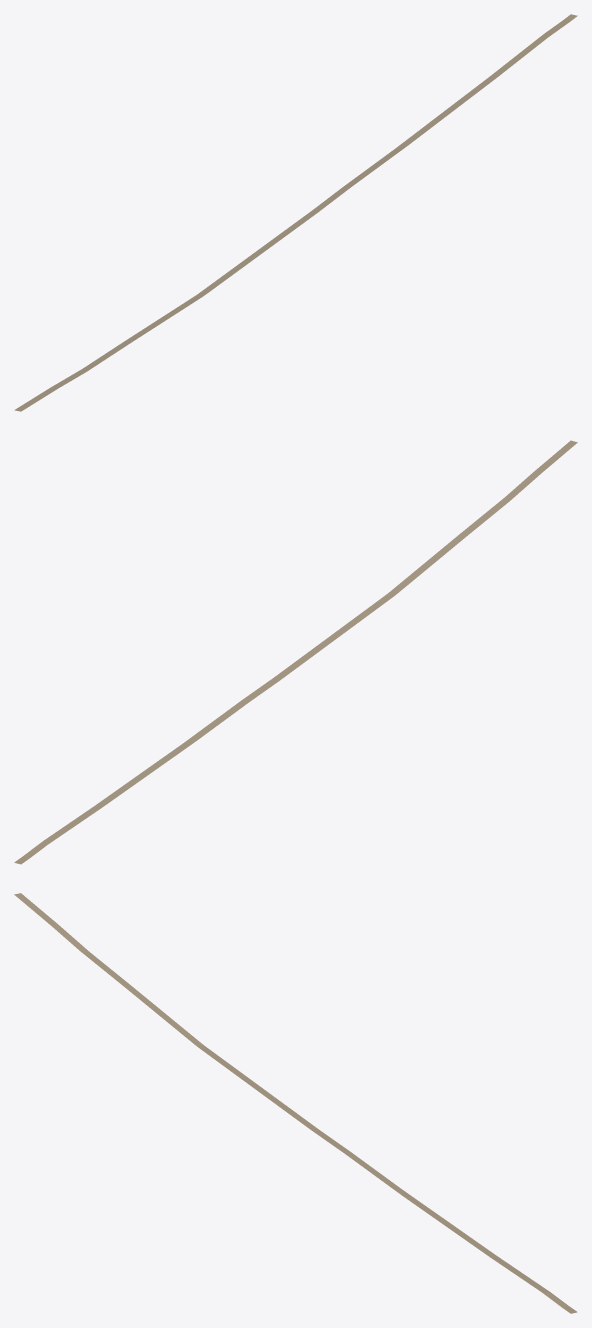
Rendered from farm_-8_-13_track.glb.
The picture shows the model from 3 angles, top to bottom: view 1: azimuth 30°, elevation 25°; view 2: azimuth 210°, elevation 25°; view 3: azimuth 270°, elevation 25°; orthographic projection.
Visible parts, largest first — view 1: geometry_0; view 2: geometry_0; view 3: geometry_0.
Part boxes in pixels (x1=…): geometry_0: x1=14, y1=14, x2=577, y2=411; geometry_0: x1=14, y1=440, x2=577, y2=864; geometry_0: x1=14, y1=893, x2=577, y2=1313.
Size of the model in its own units: 388 by 8.6 by 226.
